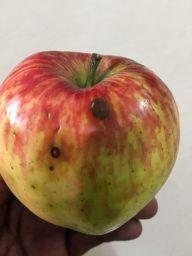Apple Semirotten: (0, 44, 182, 230)
